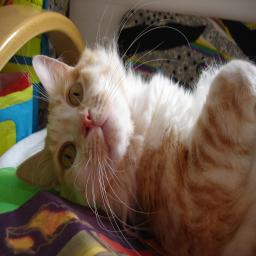catnose: (76, 108, 98, 140)
